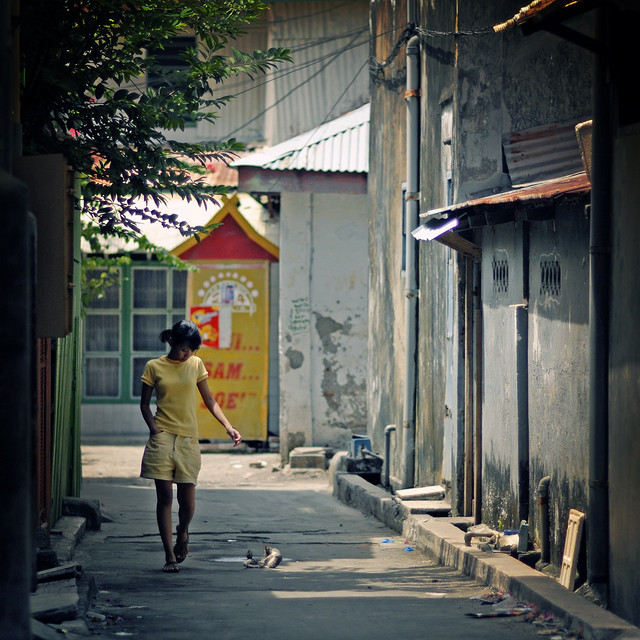person: (119, 312, 251, 575)
